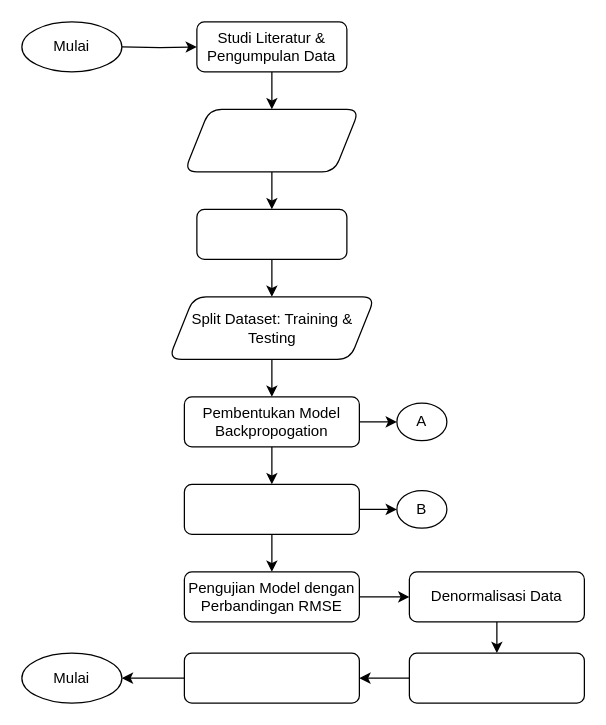
Some shapes in this 606 by 725 pixel diagram are drawn without their labels. Each missing label, with the centre of its shape:
"Data Curah Hujan Bulanan" belongs at (271,140).
"Hasil Prediksi" belongs at (271,677).
"Normalisasi Data" belongs at (271,233).
"Pembentukan Model Hybrid ARIMA-NN" belongs at (271,508).
"Pemilihan Model Terbaik" belongs at (496,677).
